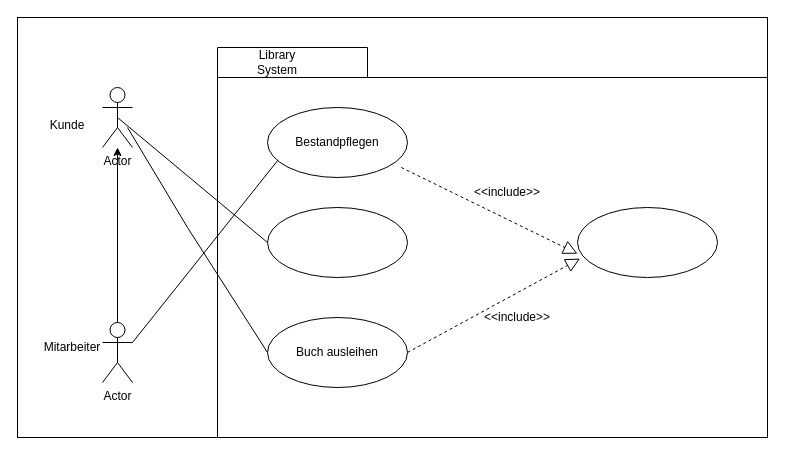
Some shapes in this 785 by 455 pixel diagram are drawn without their labels. The shapes that lost their labels are listed below. From the top down, each one's centre as x and y in pixels, then its label:
At point (337, 242): "Im Buchkatalog suchen".
At point (647, 242): "Anmelden".
